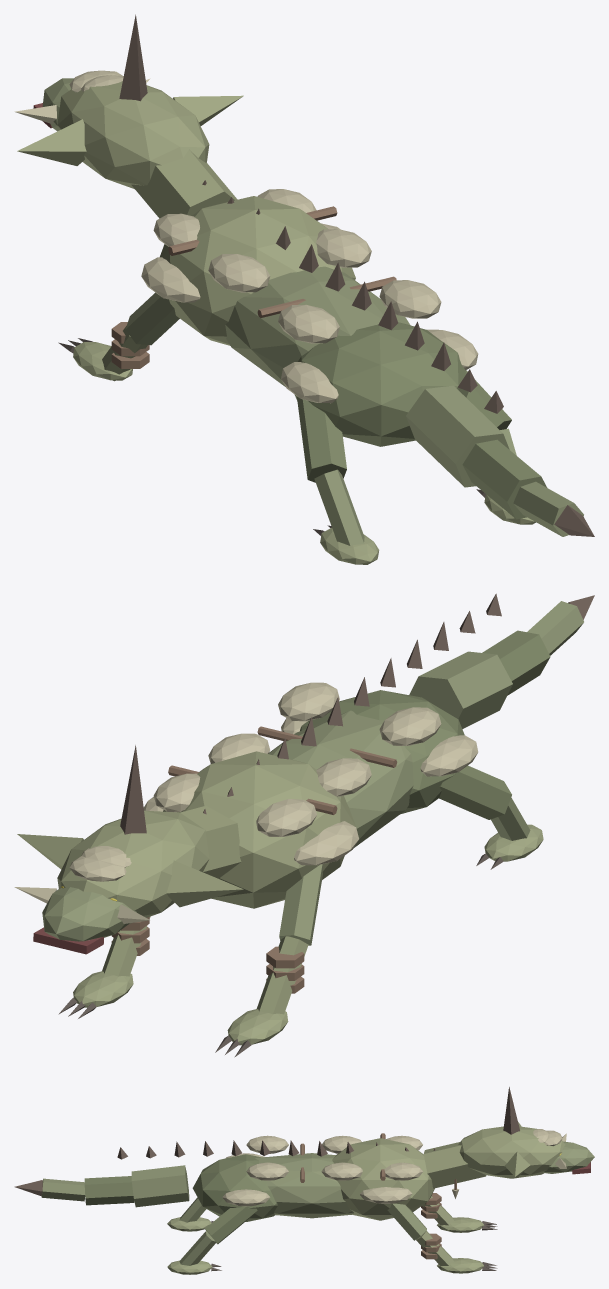
Rendered from quadruped_tier_3_spined_alpha.glb.
3 renders of one model, top to bottom at view 1: azimuth 30°, elevation 25°; view 2: azimuth 150°, elevation 25°; view 3: azimuth 270°, elevation 25°, orthographic. The views are drawn at different scales.
Visible parts, largest first — view 1: hip_mass, chest_mass, head, body_main, tail_segment_0, neck, tail_segment_1, hind_upper_leg_L, hind_lower_leg_L, side_bone_plate_L_2, side_bone_plate_L_1, tail_segment_2 (+15 smaller); view 2: chest_mass, head, body_main, tail_segment_0, hip_mass, snout, hind_upper_leg_L, neck, tail_segment_1, front_upper_leg_L, side_ear_fin_L, side_bone_plate_L_2 (+20 smaller); view 3: chest_mass, body_main, head, hip_mass, tail_segment_0, neck, tail_segment_1, hind_upper_leg_R, snout, tail_segment_2, front_upper_leg_R, front_shoulder_bone_plate_R (+16 smaller).
Boxes of the visible parts, x1=… form: hip_mass: x1=294, y1=322, x2=468, y2=446; chest_mass: x1=160, y1=196, x2=355, y2=345; head: x1=57, y1=81, x2=209, y2=189; body_main: x1=225, y1=266, x2=409, y2=386; tail_segment_0: x1=406, y1=385, x2=509, y2=487; neck: x1=131, y1=149, x2=237, y2=218; tail_segment_1: x1=462, y1=439, x2=547, y2=519; hind_upper_leg_L: x1=297, y1=396, x2=346, y2=482; hind_lower_leg_L: x1=314, y1=469, x2=364, y2=545; side_bone_plate_L_2: x1=278, y1=304, x2=339, y2=343; side_bone_plate_L_1: x1=208, y1=254, x2=270, y2=292; tail_segment_2: x1=513, y1=481, x2=583, y2=536; chest_mass: x1=163, y1=751, x2=355, y2=908; head: x1=57, y1=810, x2=209, y2=923; body_main: x1=268, y1=710, x2=413, y2=848; tail_segment_0: x1=409, y1=651, x2=512, y2=728; hip_mass: x1=300, y1=690, x2=464, y2=814; snout: x1=42, y1=887, x2=136, y2=941; hind_upper_leg_L: x1=439, y1=765, x2=511, y2=819; neck: x1=180, y1=805, x2=241, y2=878; tail_segment_1: x1=482, y1=630, x2=550, y2=695; front_upper_leg_L: x1=279, y1=864, x2=322, y2=945; side_ear_fin_L: x1=166, y1=860, x2=243, y2=907; side_bone_plate_L_2: x1=379, y1=707, x2=441, y2=745; chest_mass: x1=332, y1=1138, x2=434, y2=1220; body_main: x1=255, y1=1153, x2=353, y2=1218; head: x1=458, y1=1126, x2=565, y2=1178; hip_mass: x1=192, y1=1154, x2=277, y2=1221; tail_segment_0: x1=131, y1=1165, x2=189, y2=1207; neck: x1=423, y1=1142, x2=486, y2=1188; tail_segment_1: x1=84, y1=1176, x2=134, y2=1205; hind_upper_leg_R: x1=205, y1=1206, x2=257, y2=1244; snout: x1=543, y1=1141, x2=594, y2=1173; tail_segment_2: x1=41, y1=1178, x2=85, y2=1201; front_upper_leg_R: x1=387, y1=1203, x2=426, y2=1240; front_shoulder_bone_plate_R: x1=360, y1=1187, x2=412, y2=1203.
Bounding box in the file's own units: 1.08 × 1.39 × 4.44.
